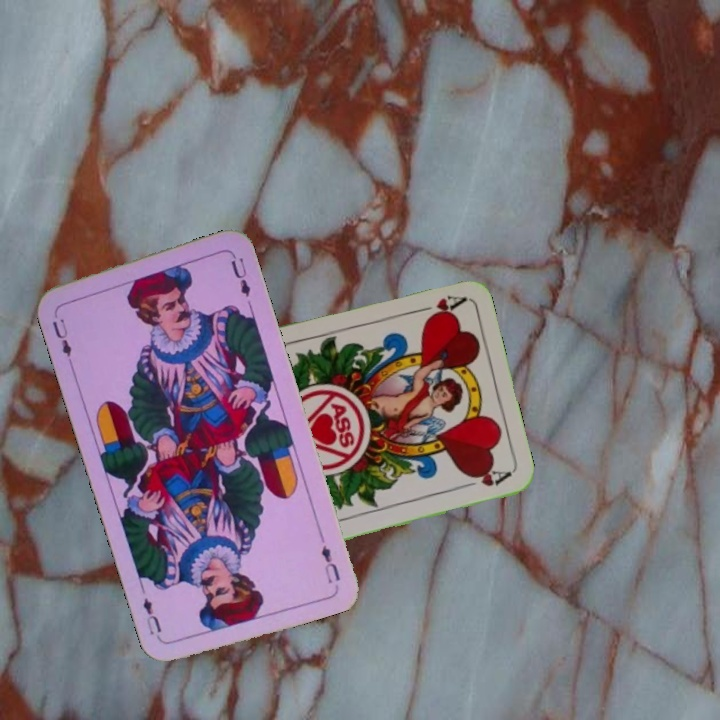EU: (315, 529, 343, 586), (48, 314, 75, 366)
HA: (407, 291, 466, 323)
